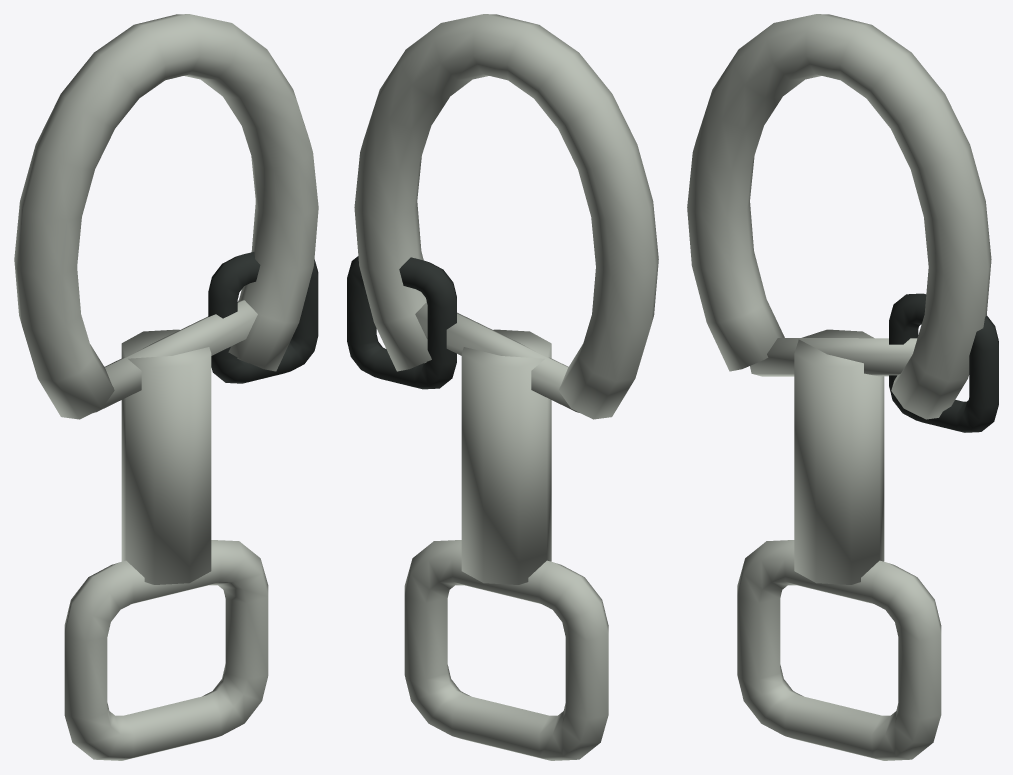
File: KH_LeashSnap.fbx
The picture shows the model from 3 angles, left to right: view 1: azimuth 30°, elevation 25°; view 2: azimuth 150°, elevation 25°; view 3: azimuth 330°, elevation 25°; orthographic projection.
Visible parts, largest first — view 1: KH_LeashSnap; view 2: KH_LeashSnap; view 3: KH_LeashSnap.
Boxes of the visible parts, x1,y1,x2,y2 form: KH_LeashSnap: (14,14,318,760); KH_LeashSnap: (347,14,658,760); KH_LeashSnap: (687,14,998,760).
Bounding box in the file's own units: 0.0454 × 0.104 × 0.012.
Materials: 1 (1 with a texture image).
